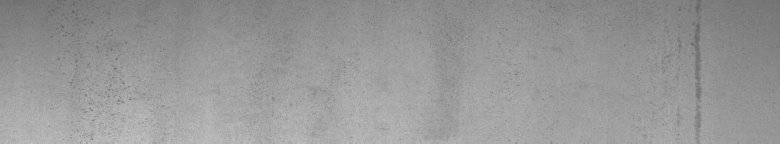ib: (56, 10, 138, 113)
